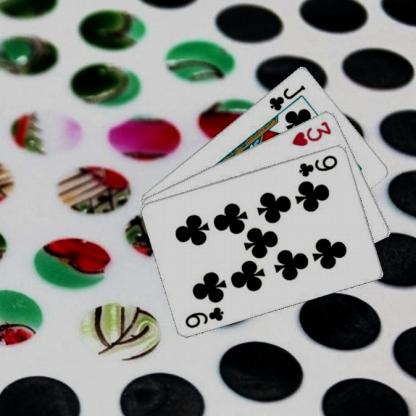3H: (289, 118, 333, 147)
9C: (296, 152, 338, 178), (183, 304, 225, 329)
JC: (266, 82, 307, 112)
